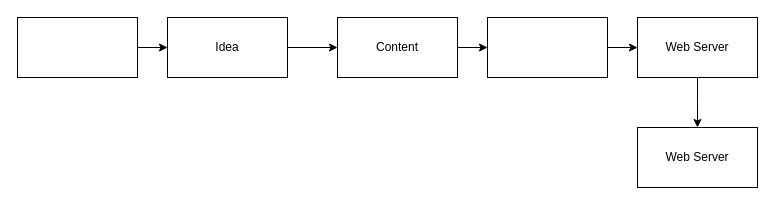
Image size: 775x205. Some labels were removed from this diagram. The shapes that lost their labels are listed below. From the top down, each one's centre as x and y in pixels, then its label:
(x=77, y=47): Designer
(x=547, y=47): Content Management System
